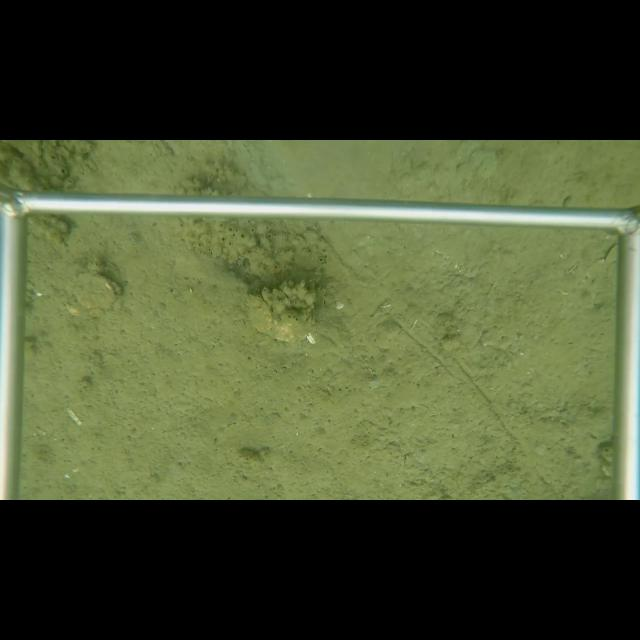Oyster-Closed: (247, 292, 315, 342), (67, 270, 119, 318)
